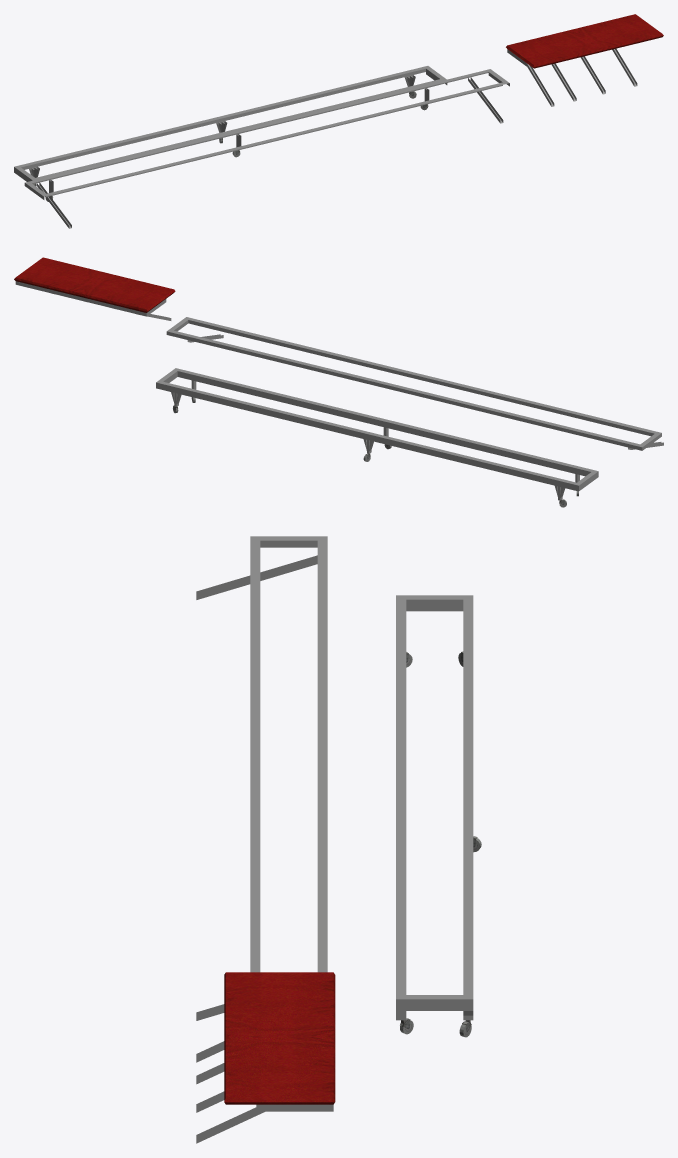
The model's file is ESTADIO_bancaLarga.FBX.
3 views of the same model, one above another, from view 1: azimuth 30°, elevation 25°; view 2: azimuth 150°, elevation 25°; view 3: azimuth 270°, elevation 25° (orthographic). The views are drawn at different scales.
Visible parts, largest first — view 1: ESTADIO_bancaLarga; view 2: ESTADIO_bancaLarga; view 3: ESTADIO_bancaLarga.
Part boxes in pixels (<box>): ESTADIO_bancaLarga: <box>14,14,663,228</box>; ESTADIO_bancaLarga: <box>14,257,663,507</box>; ESTADIO_bancaLarga: <box>196,536,481,1143</box>.
Bounding box in the file's own units: 913 × 88.2 × 184.
Materials: 2 (1 with a texture image).
